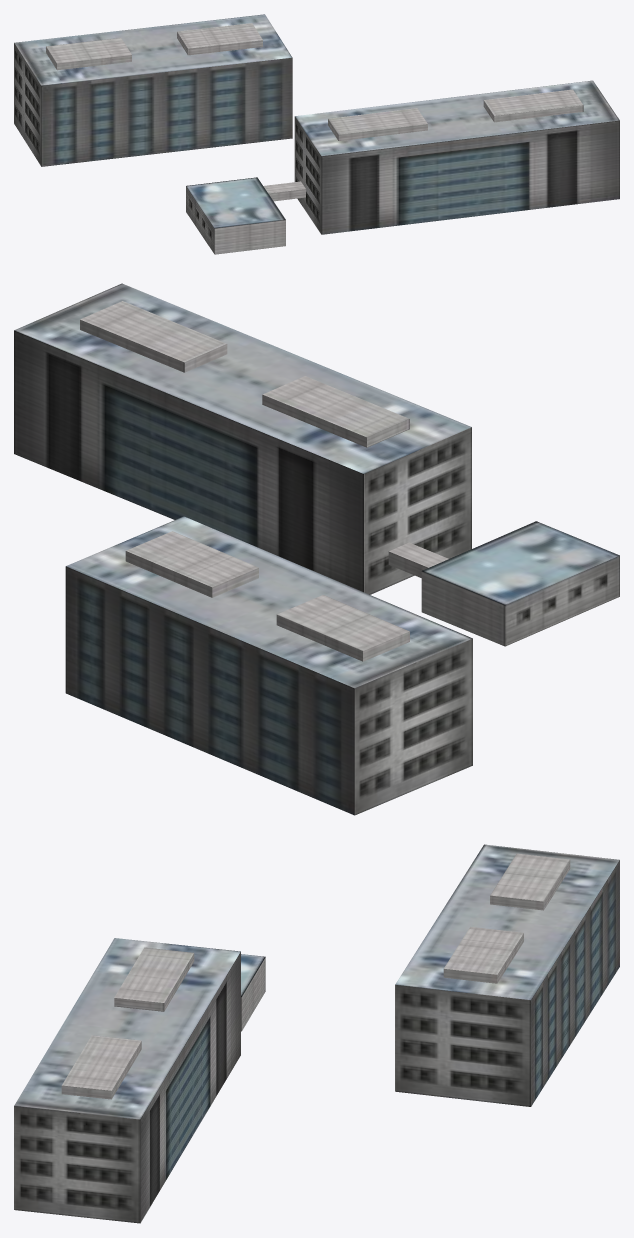
Rendered from vidp_atcgp2.glb.
3 views of the same model, one above another, from view 1: azimuth 30°, elevation 25°; view 2: azimuth 150°, elevation 25°; view 3: azimuth 270°, elevation 25° (orthographic). The views are drawn at different scales.
Parts seen in each view (by area): view 1: XCSBD1, XCSBD2; view 2: XCSBD1, XCSBD2; view 3: XCSBD1, XCSBD2.
Part boxes in pixels (x1=…): XCSBD1: x1=186, y1=80, x2=619, y2=254; XCSBD2: x1=14, y1=14, x2=292, y2=166; XCSBD1: x1=14, y1=283, x2=619, y2=646; XCSBD2: x1=65, y1=516, x2=472, y2=815; XCSBD1: x1=14, y1=938, x2=265, y2=1223; XCSBD2: x1=395, y1=844, x2=619, y2=1106.
Size of the model in its own units: 110 by 21.84 by 104.
2 materials, 2 textured.
